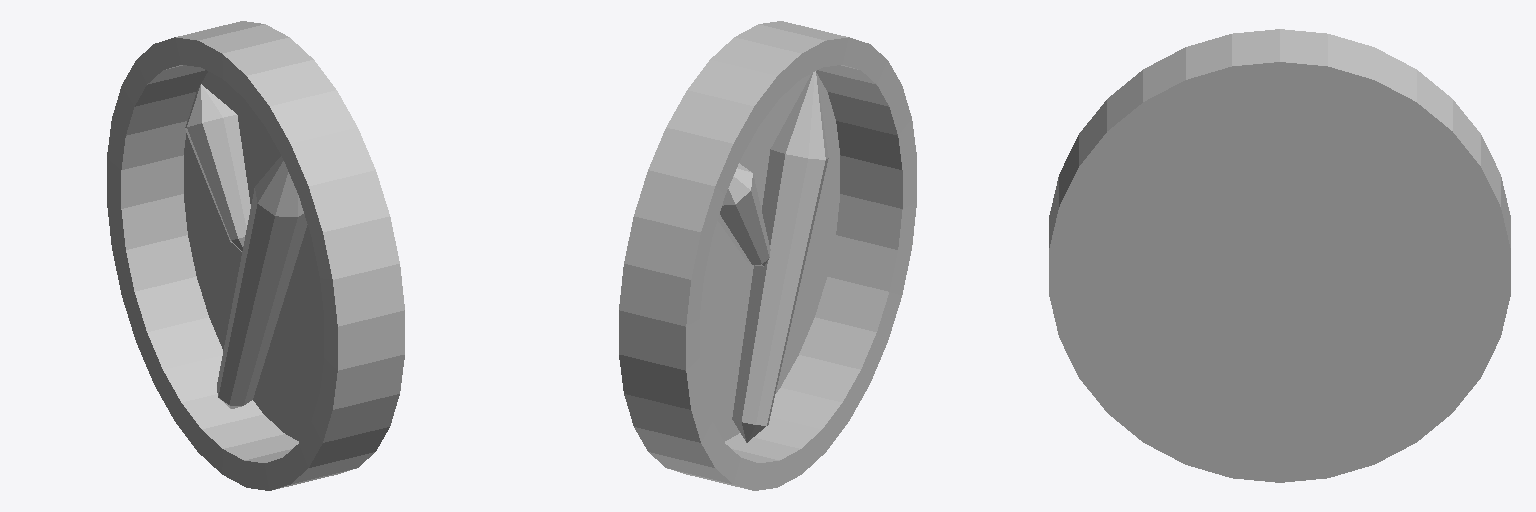
File: badge_base.obj
The picture shows the model from 3 angles: view 1: azimuth 30°, elevation 25°; view 2: azimuth 150°, elevation 25°; view 3: azimuth 270°, elevation 25°; orthographic projection.
Parts seen in each view (by area): view 1: pCylinder1, pCylinder2, pCube3 polySurface1, polySurface2 pCube3; view 2: pCylinder1, pCylinder2, pCube3 polySurface1, polySurface2 pCube3; view 3: pCylinder2, pCylinder1.
Boxes of the visible parts, box(x1,y1,x2,y2) form: pCylinder1: box(107, 22, 400, 490); pCylinder2: box(184, 21, 404, 475); pCube3 polySurface1: box(217, 156, 307, 408); polySurface2 pCube3: box(185, 84, 250, 251); pCylinder1: box(623, 22, 916, 490); pCylinder2: box(619, 21, 839, 475); pCube3 polySurface1: box(732, 71, 828, 442); polySurface2 pCube3: box(718, 163, 770, 266); pCylinder2: box(1049, 60, 1510, 482); pCylinder1: box(1049, 29, 1510, 245).
Size of the model in its own units: 0.5037 by 3.01 by 2.99.